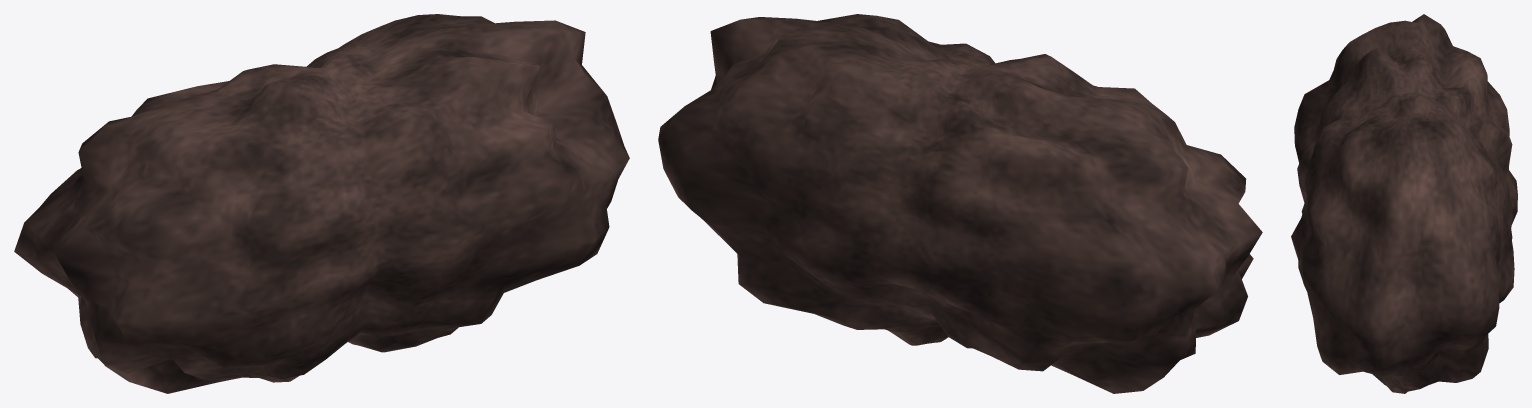
Rendered from asteroide-duplo.glb.
3 views of the same model, side by side, from view 1: azimuth 30°, elevation 25°; view 2: azimuth 150°, elevation 25°; view 3: azimuth 270°, elevation 25° (orthographic). The views are drawn at different scales.
Parts seen in each view (by area): view 1: Asteroide · duplo; view 2: Asteroide · duplo; view 3: Asteroide · duplo.
Boxes of the visible parts, x1,y1,x2,y2 form: Asteroide · duplo: [14, 14, 629, 393]; Asteroide · duplo: [658, 14, 1262, 393]; Asteroide · duplo: [1291, 14, 1517, 393].
Bounding box in the file's own units: 3.01 × 1.55 × 1.2.
1 material, 1 textured.
